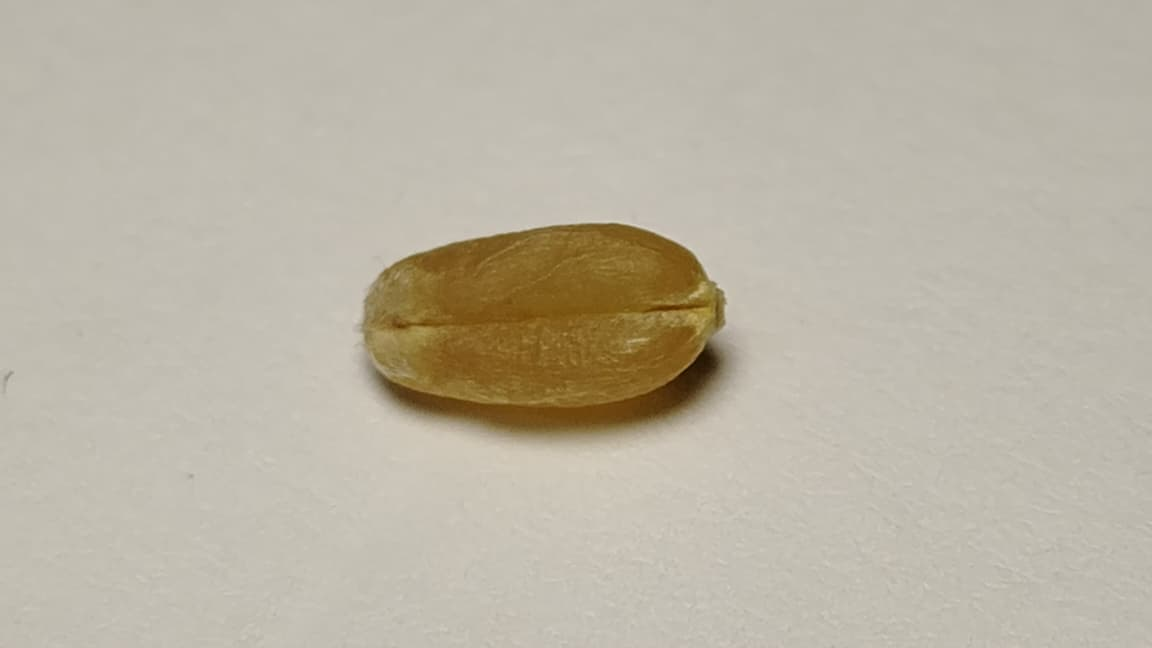healthy: (362, 223, 722, 406)
